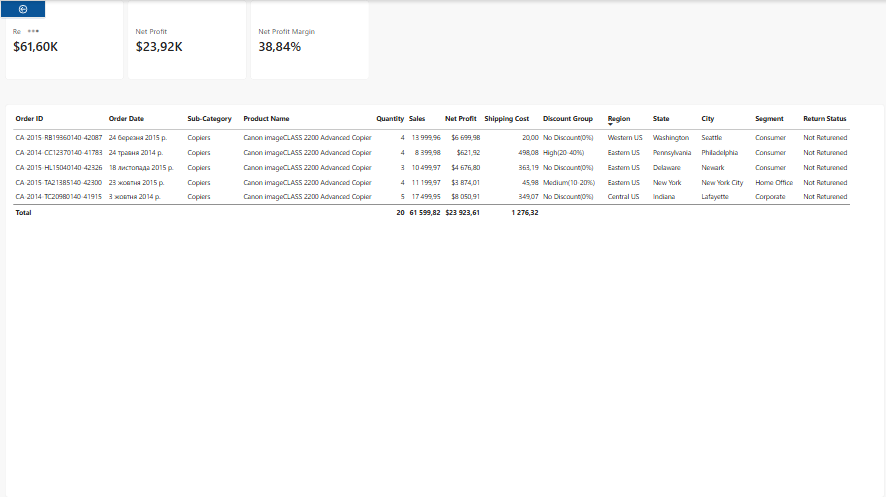

The page's visual inventory and layout, read from the dashboard file:
{"tool":"powerbi","page":{"name":"Orders Details","canvas":[1920,1080],"ordinal":4},"visuals":[{"type":"cardVisual","fields":{"Data":["_Measures.Revenue TTL $","_Measures.Net Profit TTL $","_Measures.Profit Margin %"]},"box":[10.8,0,791.6,173.5],"z":0},{"type":"tableEx","fields":{"Values":["Fact_Orders.Order ID","Fact_Orders.Order Date","Dim_Product.Sub-Category","Dim_Product.Product Name","Sum(Fact_Orders.Quantity)","Sum(Fact_Orders.Sales)","Sum(Fact_Orders.Profit)","Sum(Fact_Orders.Shipping Cost)","Sum(Fact_Orders.Discount)","Dim_Adress.Region","Dim_Adress.State","Dim_Adress.City"]},"box":[10.8,225.5,1908.4,854.5],"z":1000},{"type":"actionButton","box":[0,0,100,40],"z":2000}]}

Visuals, with their boxes on the page's 1920x1080 design canvas (x1, y1, x2, y2). These are canvas units, not pixel positions in the 886x497 screenshot, which may show the page scaled, cropped or inside an application window:
cardVisual - _Measures.Revenue TTL $ x _Measures.Net Profit TTL $: {"x1": 11, "y1": 0, "x2": 802, "y2": 174}
tableEx - Fact_Orders.Order ID x Fact_Orders.Order Date: {"x1": 11, "y1": 226, "x2": 1919, "y2": 1080}
actionButton: {"x1": 0, "y1": 0, "x2": 100, "y2": 40}
